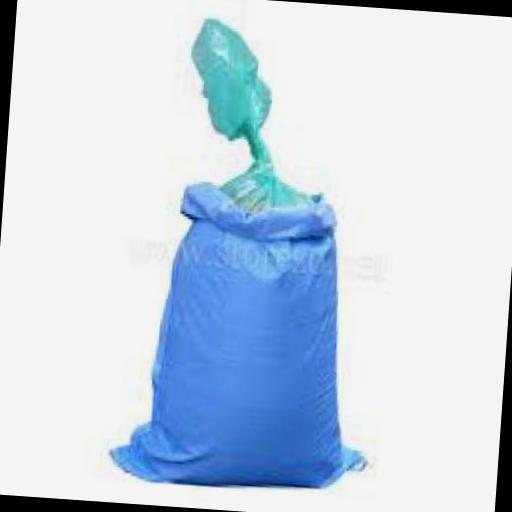plastic: (106, 14, 400, 496)
